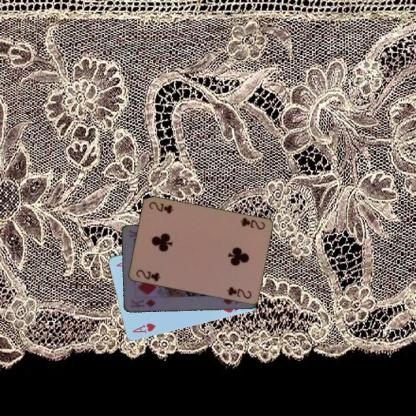2c: (134, 266, 161, 283), (238, 215, 266, 231)
Ah: (130, 320, 156, 335)
Kd: (128, 297, 157, 309)
